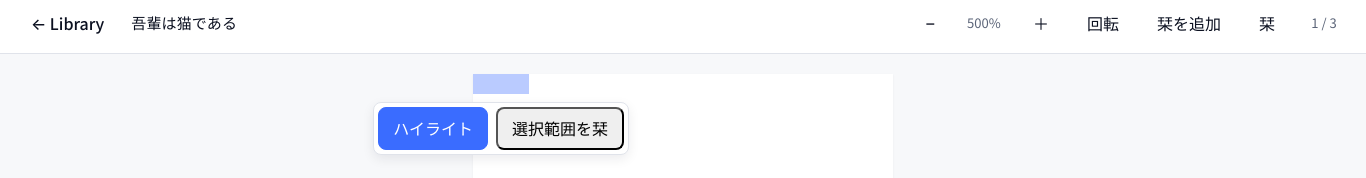
Test case: the highlight action › shows the action error and paints nothing when the write fails
The image size is (1366, 178).
Expected: the element with test id "rm-selection-toolbar" is shown, [373,102,629,155]
Click the button with test id "rm-selection-highlight".
click(433, 129)  # box [378,107,488,150]
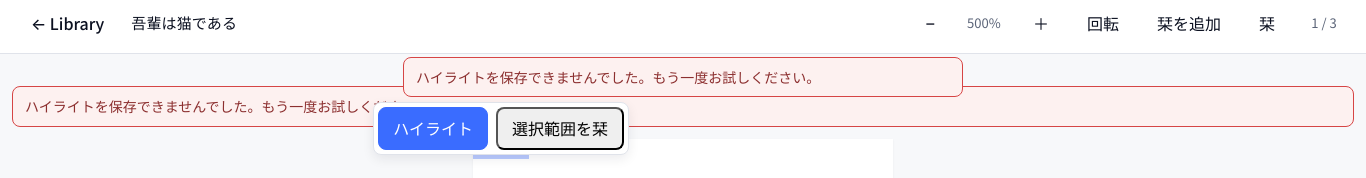
Expected: the message with test id "rm-reader-action-error" shows "ハイライトを保存", [416,67,820,87]
